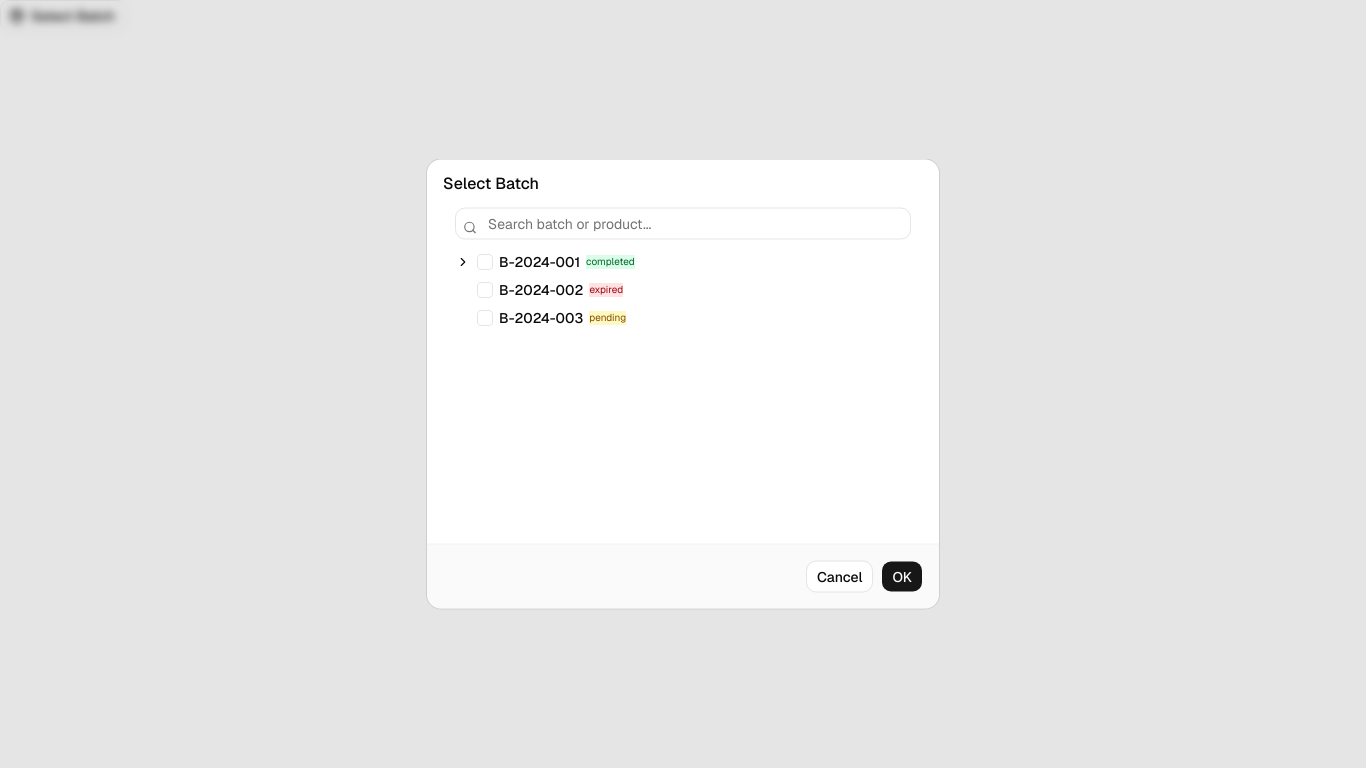
Test case: BatchSelector › collapses tree nodes
The width and height of the screenshot is (1366, 768).
Click the button named "Expand" next to "B-2024-001".
click(463, 262)  # box [455,254,471,270]
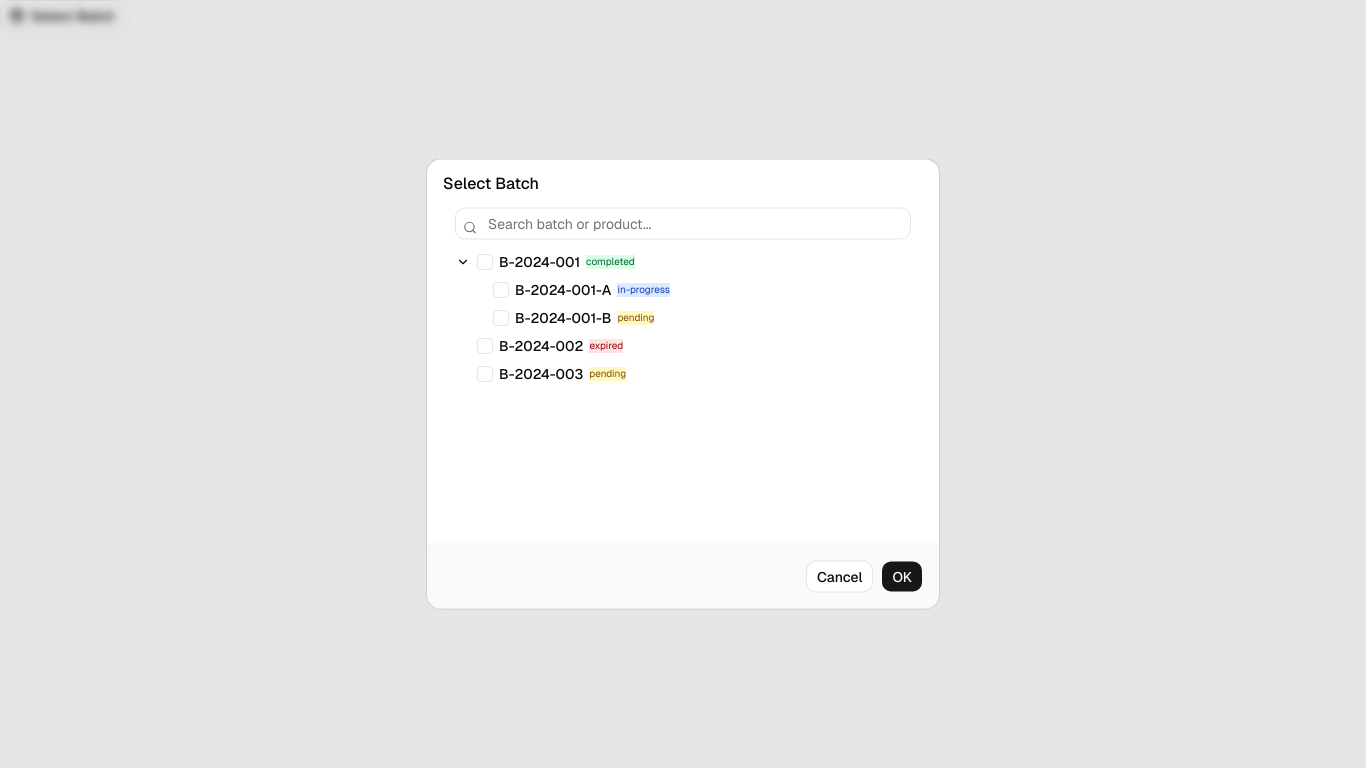
Result: the text "B-2024-001-A" is shown at [515,280,612,300]
Click the button named "Collapse".
click(463, 262)  # box [455,254,471,270]
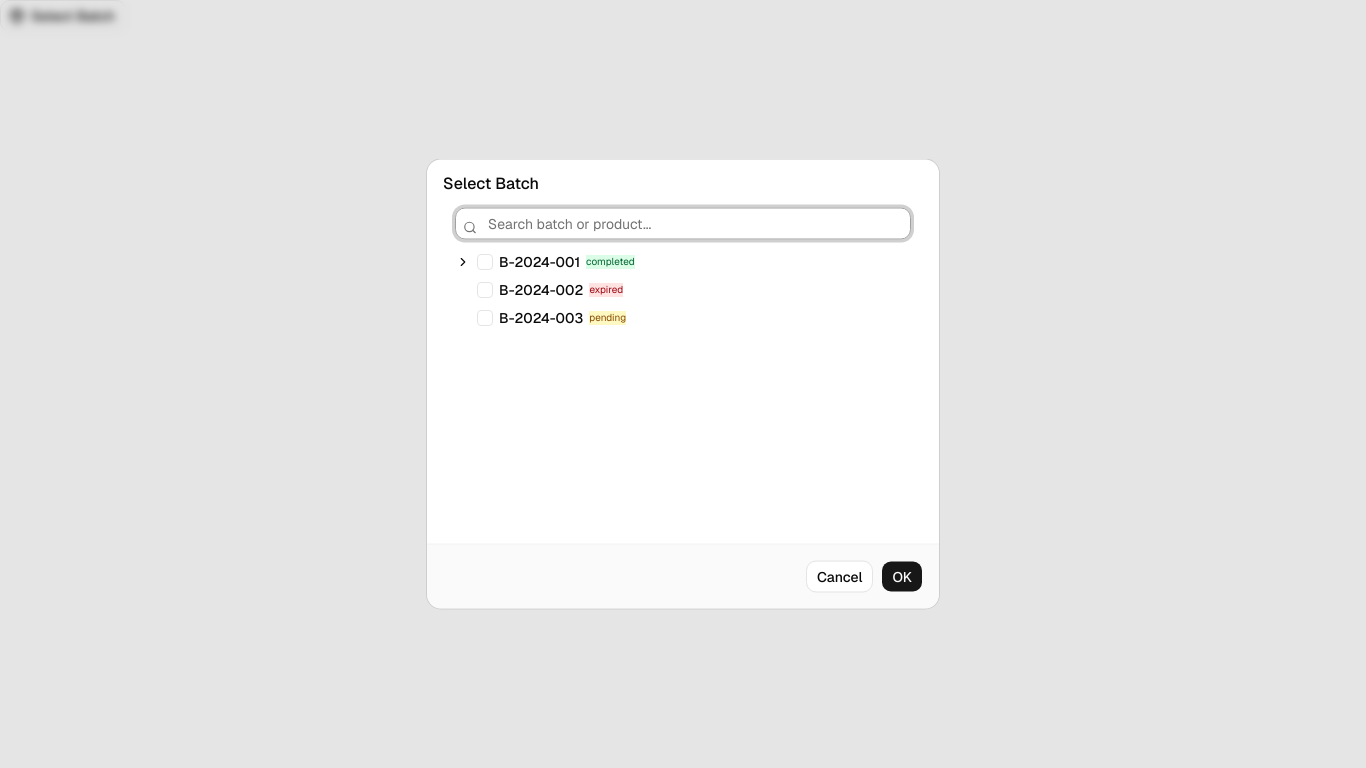
Result: the text "B-2024-001-A" is gone
